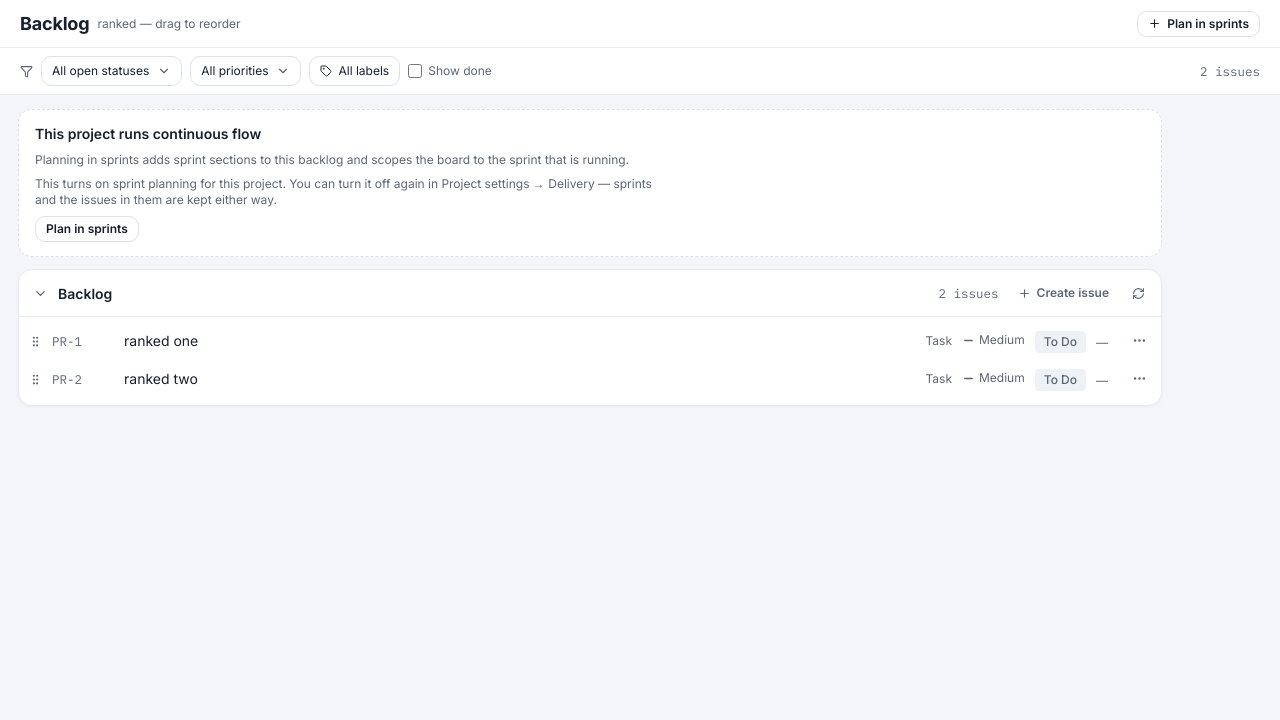
Test: Backlog — a Kanban project’s route to its first sprint (HD-104 Rule C) › creates NO sprint when the enabling PATCH fails — never strands one
Check: the text "ranked one" is shown, box x1=124 y1=332 x2=198 y2=349
Click the button "Plan in sprints" in the row of "ranked — drag to reorder" at (1199, 24), box x1=1137 y1=10 x2=1260 y2=36
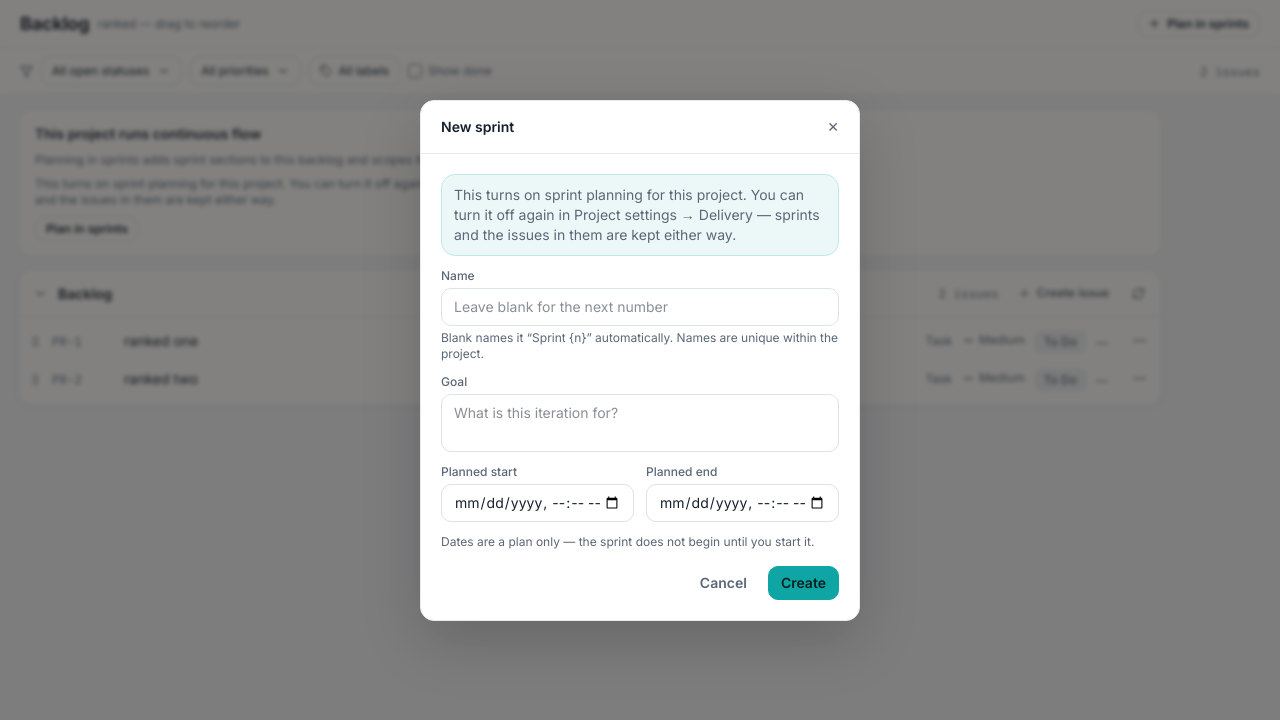
Click the button "Create" at (803, 582), box x1=768 y1=566 x2=839 y2=600
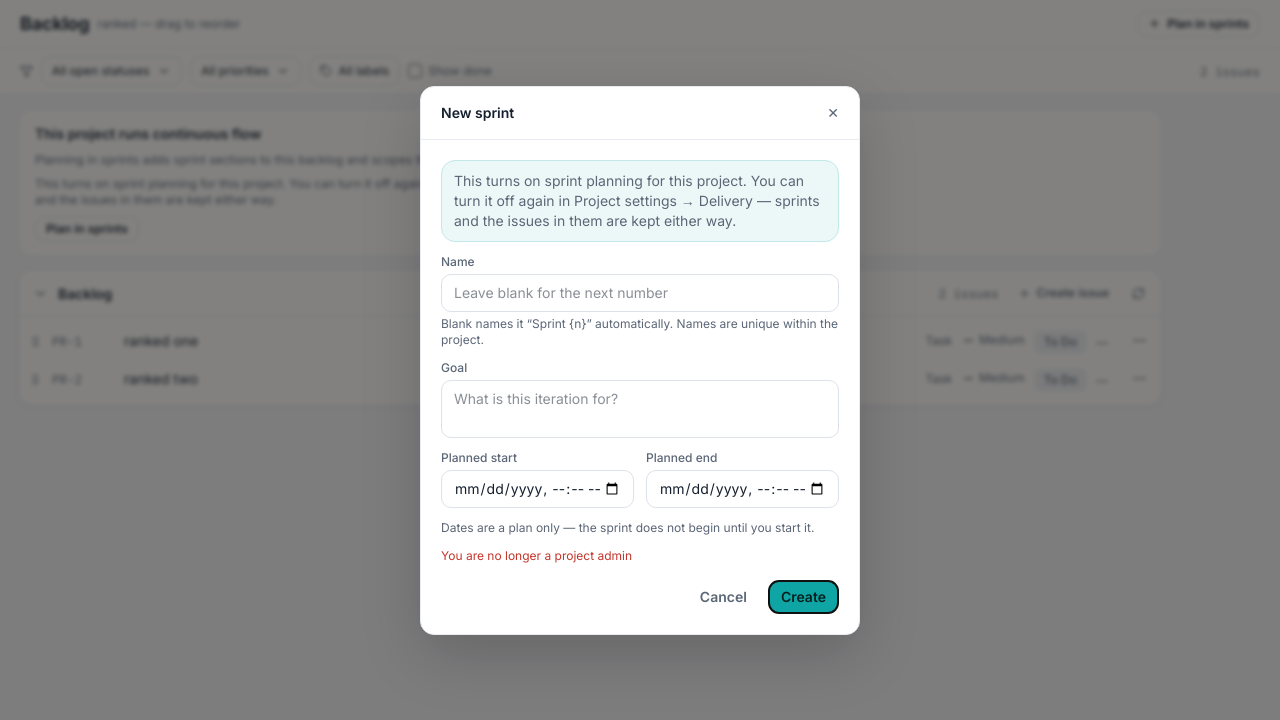
Check: the button "Plan in sprints" is shown, box x1=1137 y1=10 x2=1260 y2=36
Check: the text "You are no longer a project admin" is shown, box x1=441 y1=548 x2=632 y2=562
